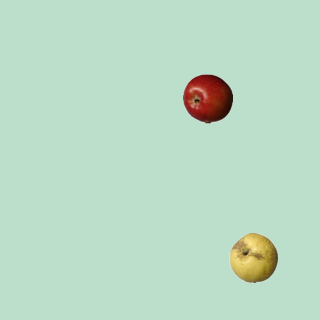Apple Braeburn: (182, 73, 232, 123)
Apple Golden 1: (228, 232, 278, 282)
